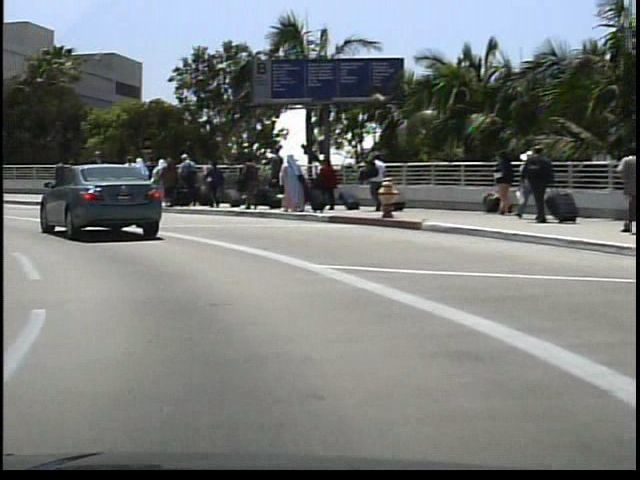person: (518, 143, 550, 224), (609, 142, 636, 233), (58, 152, 86, 211), (362, 149, 388, 212), (85, 149, 111, 207), (55, 159, 61, 189)
